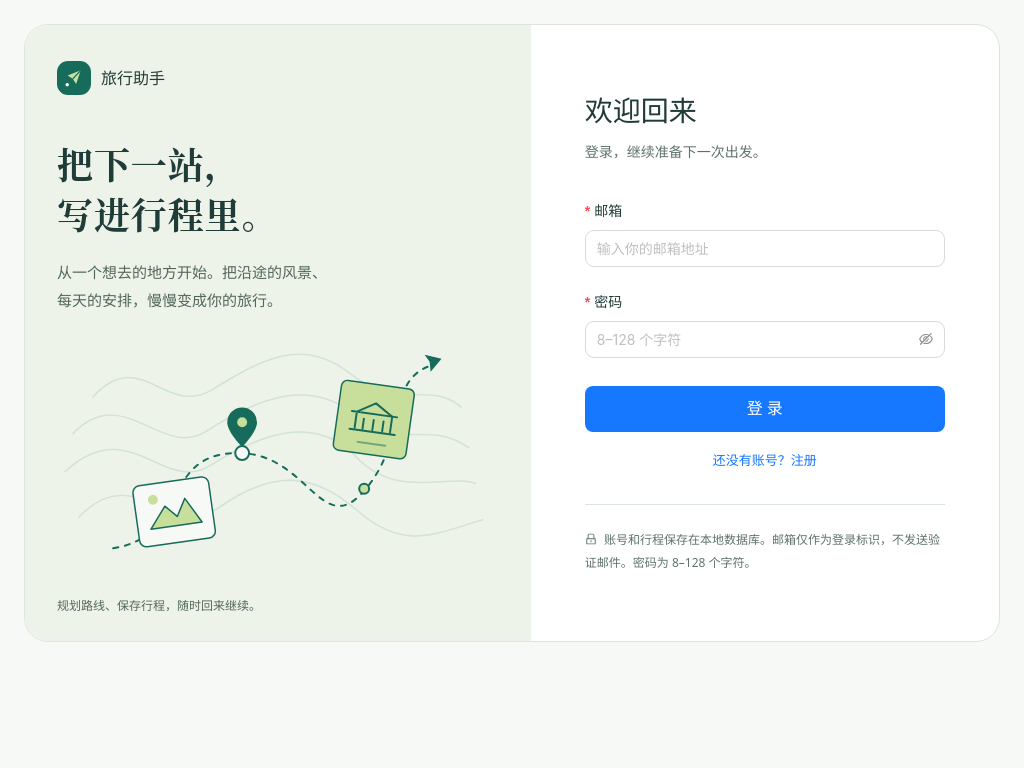
it: local login form submission › shows validation feedback without sending invalid credentials (invalid-email)
Type "invalid-email" into the field labelled "邮箱" at coordinates (765, 248), box [585,230,945,267]
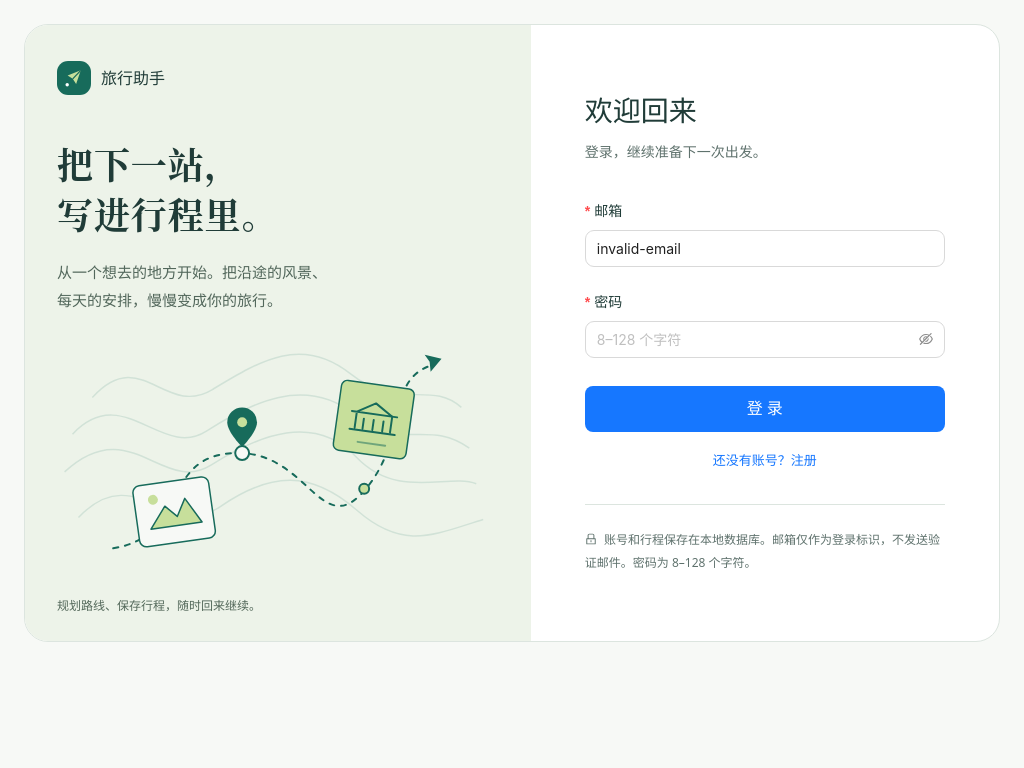
Type "short" into the password field labelled "密码" at coordinates (756, 340), box [597,329,915,350]
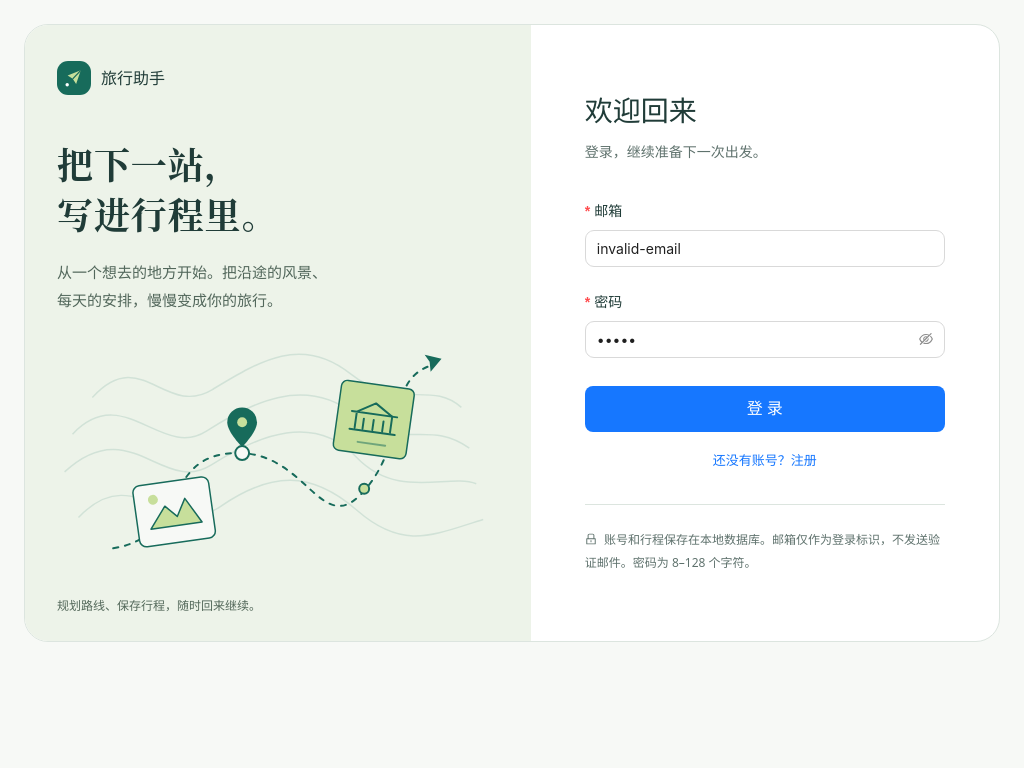
Click the submit button at coordinates (765, 409), box [585,386,945,432]
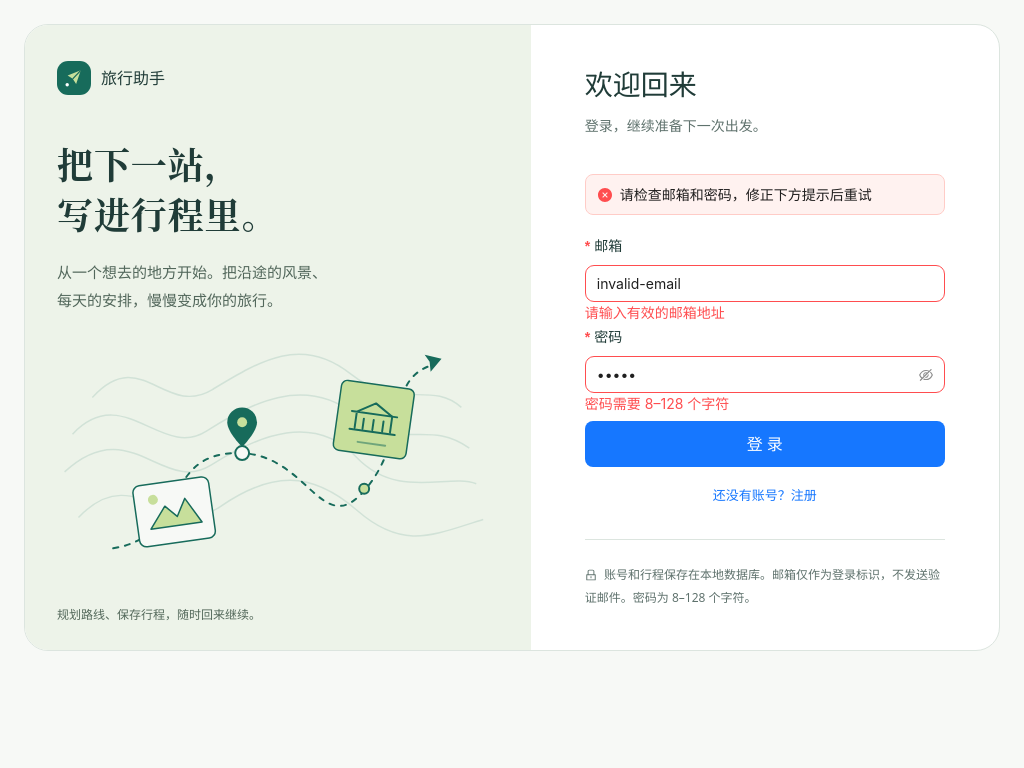
Check: the text "请输入有效的邮箱地址" is shown, box [585,304,725,321]
Check: the text "请检查邮箱和密码" is shown, box [620,186,872,203]
